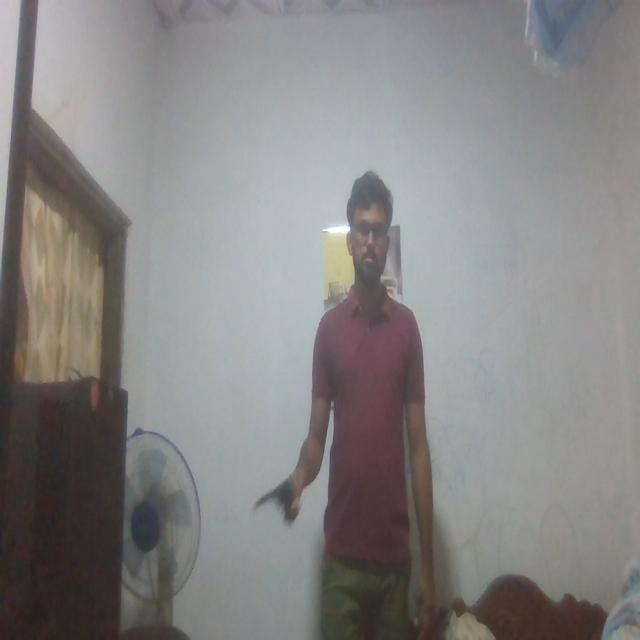Gun_Holder: (254, 474, 302, 530)
Person: (278, 170, 440, 640)
